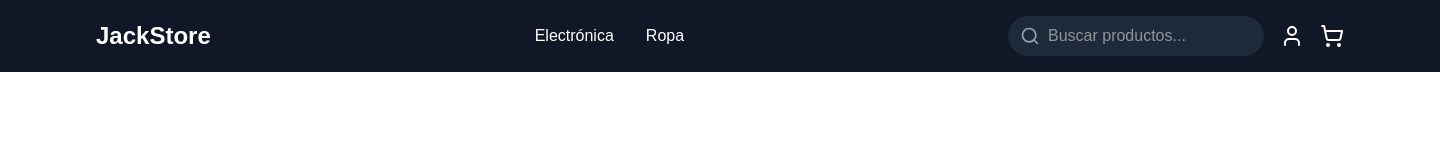
Header Component - Search Functionality › filters products based on search input
Type "Producto 1" into the field with placeholder "Buscar productos..." at (1136, 36), box x1=1008 y1=16 x2=1264 y2=56
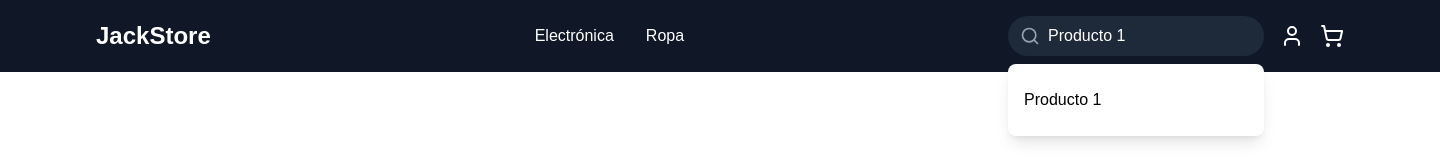
Expected: the button "Producto 1" is shown, x1=1024 y1=80 x2=1248 y2=120
